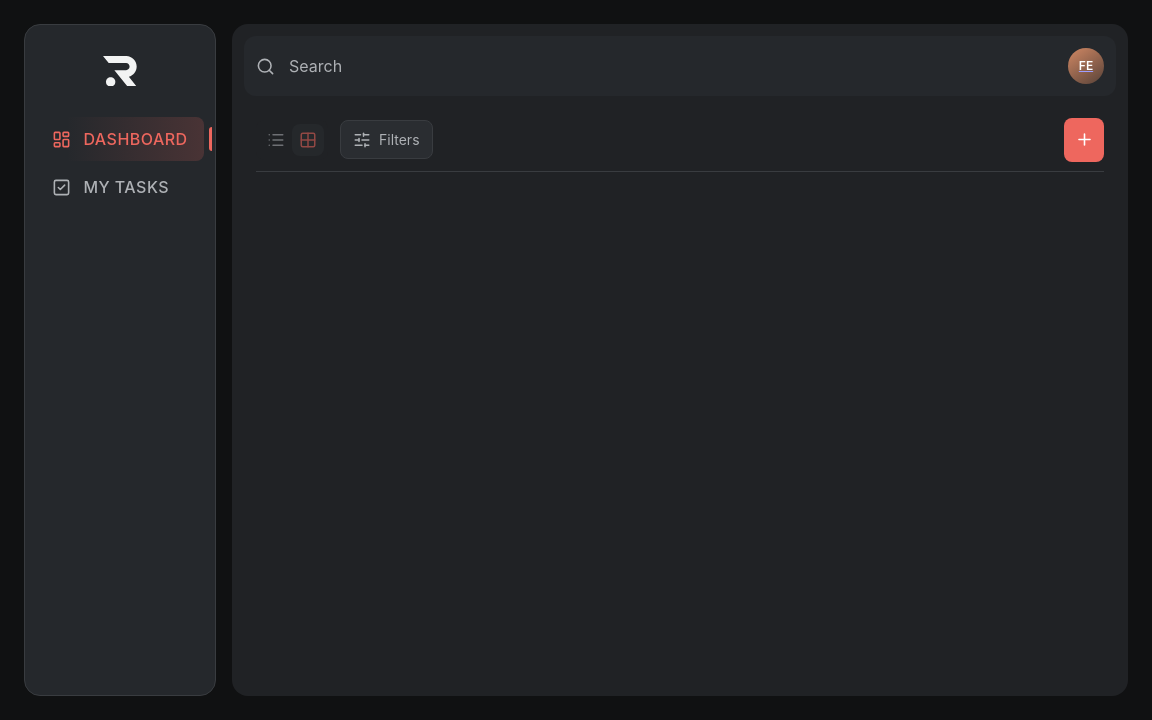
Test: AppLayout task creation › closes an open metadata dropdown with Escape without discarding the draft
Click the button named "Add task". click: [1084, 140]
box: [1064,118,1104,162]
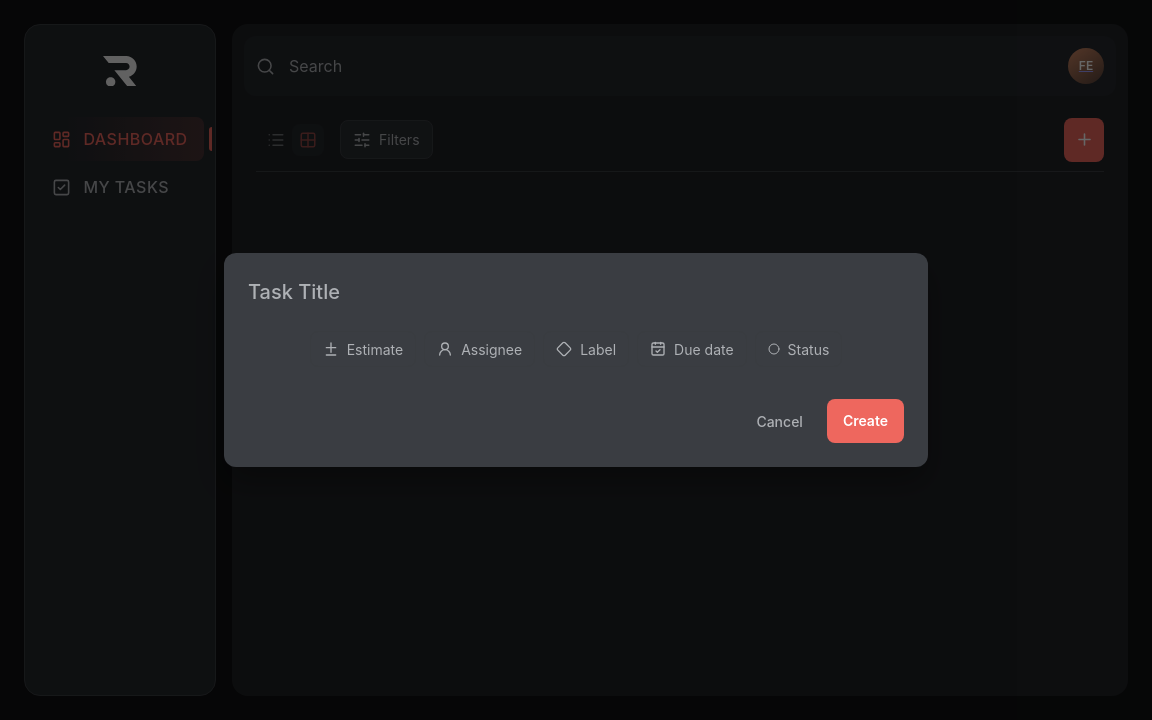
Type "Kept draft" into the field labelled "Task Title". click: [576, 292]
box: [248,277,904,307]
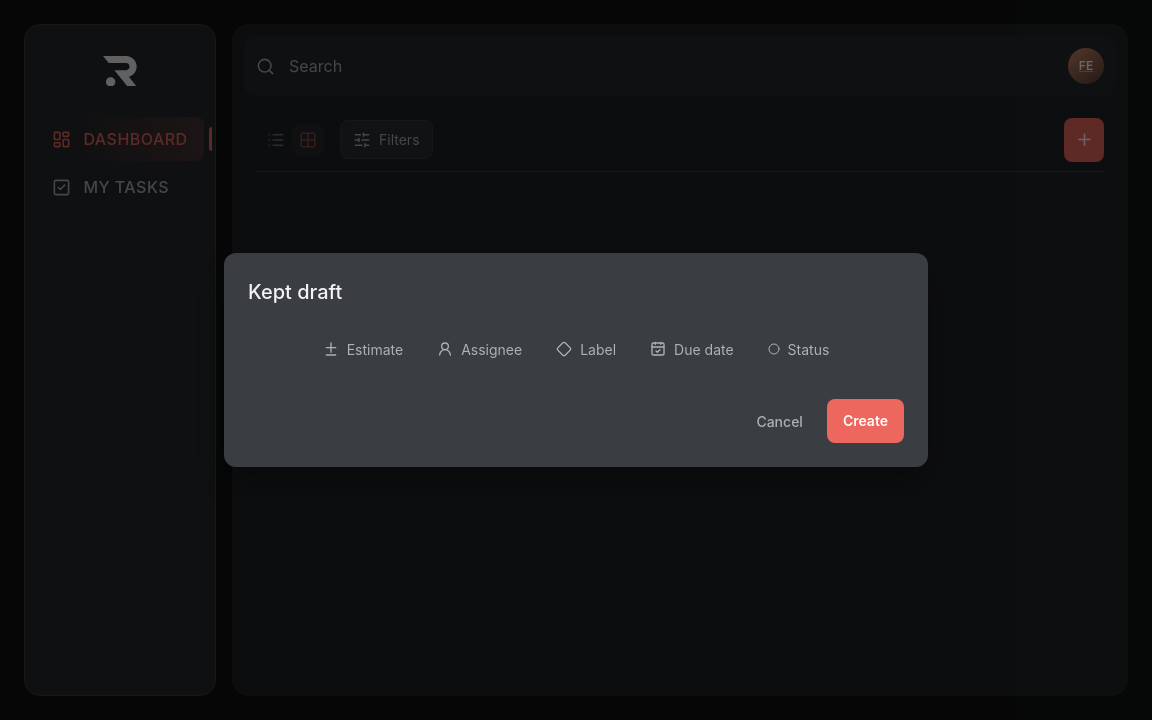
Click the button "Estimate". click: [363, 349]
box: [310,331,416,367]
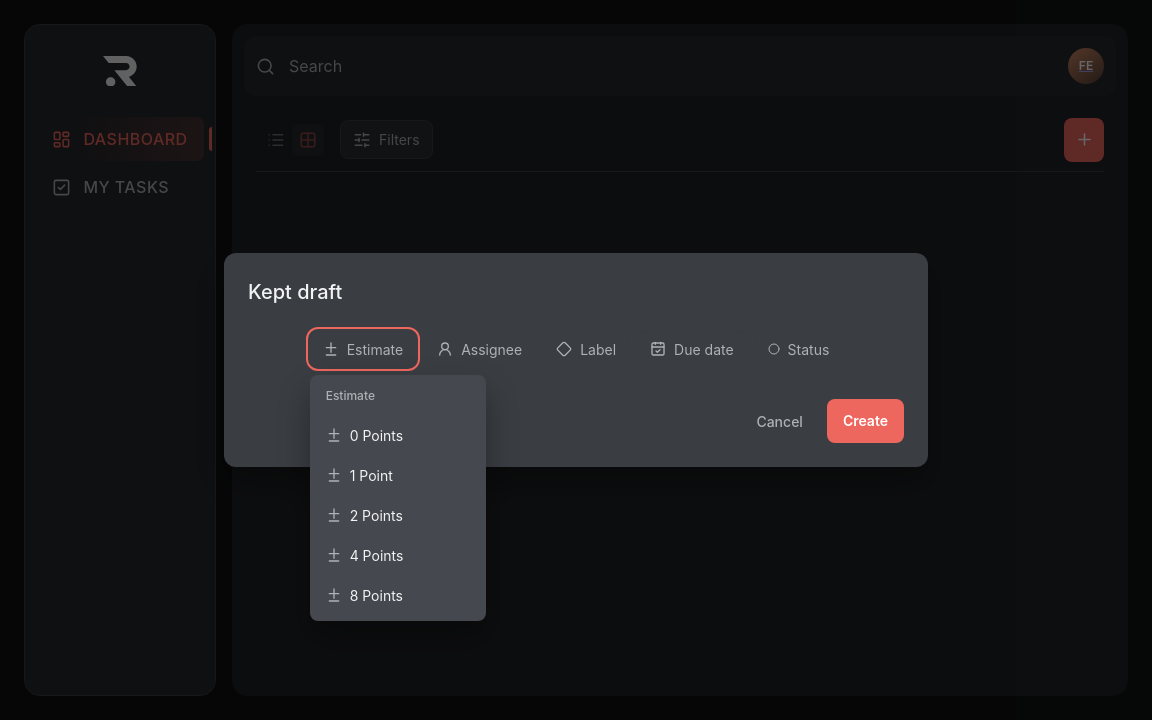
Check: the element "Estimate" is shown, box [310,375,486,621]
Press Escape
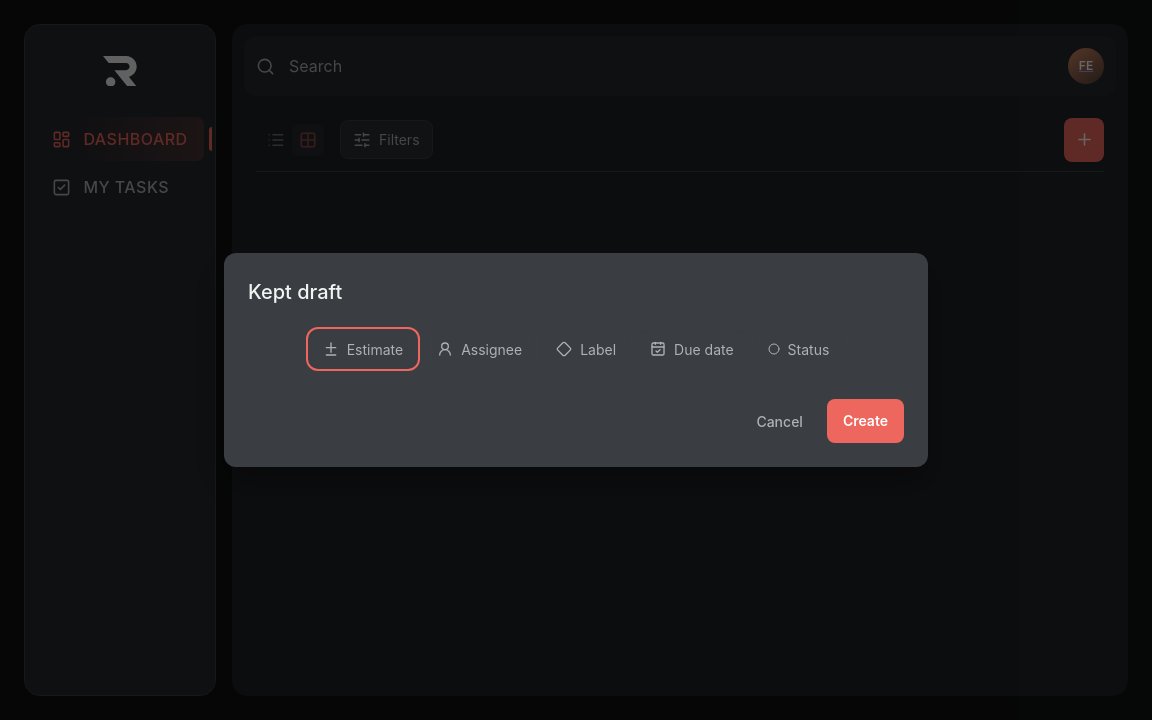
Check: the dialog is shown, box [224,253,928,467]
Check: the text "Estimate 0 Points 1 Point 2 Points 4 Points 8 Points" is gone
Press Escape
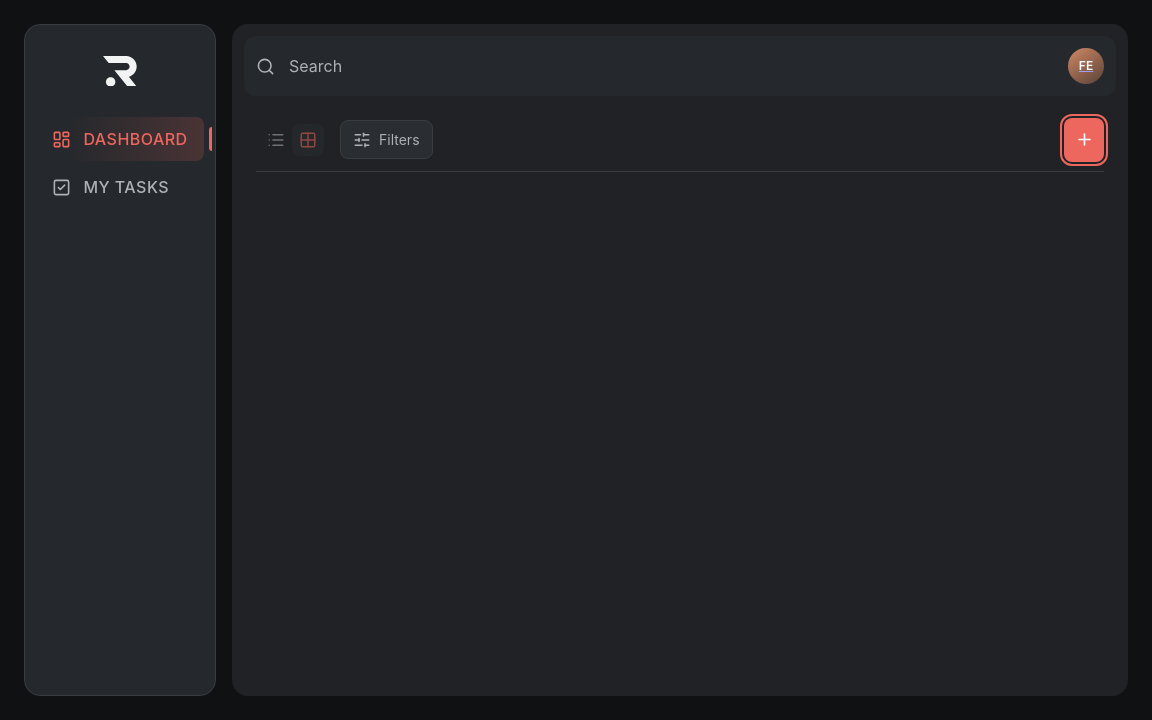
Check: the dialog is gone
